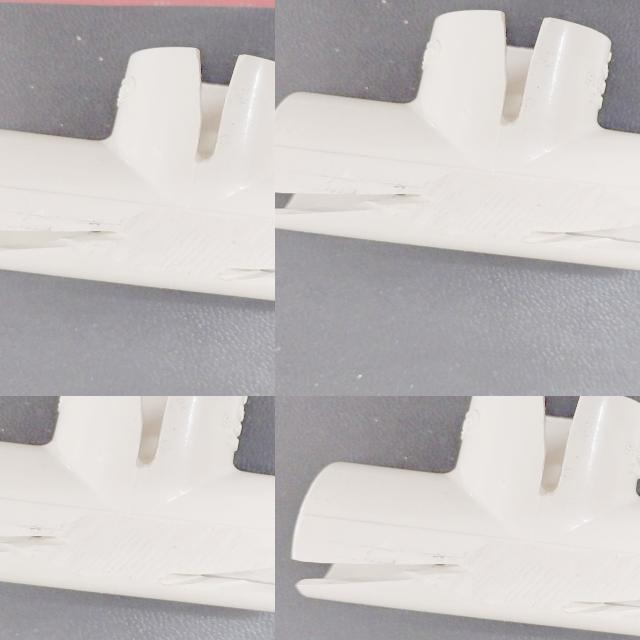Defective: (538, 396, 603, 500), (300, 559, 456, 587), (576, 587, 640, 634)
T Joint: (286, 396, 640, 640)
